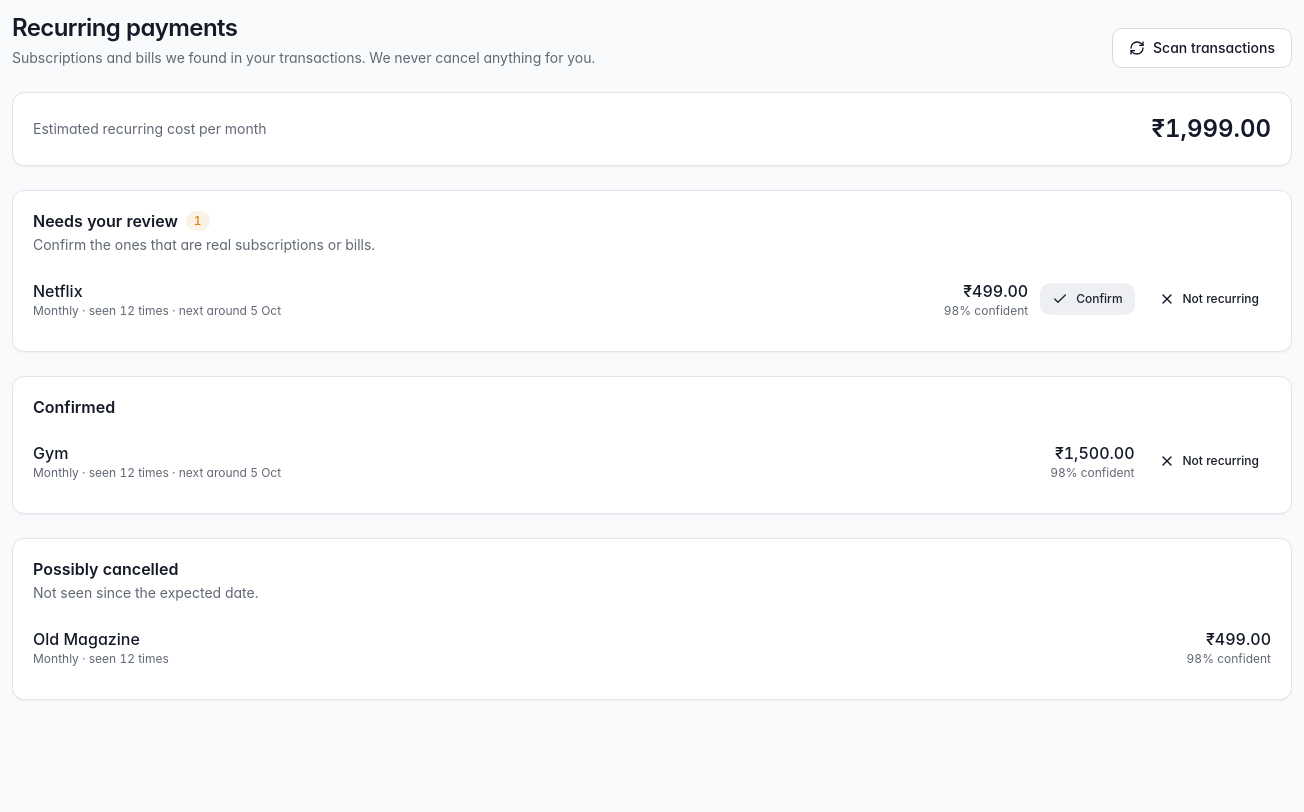
it: RecurringPage › runs a scan on demand
Click the button "Scan transactions": coordinates (1202, 48) [1112,28,1292,68]
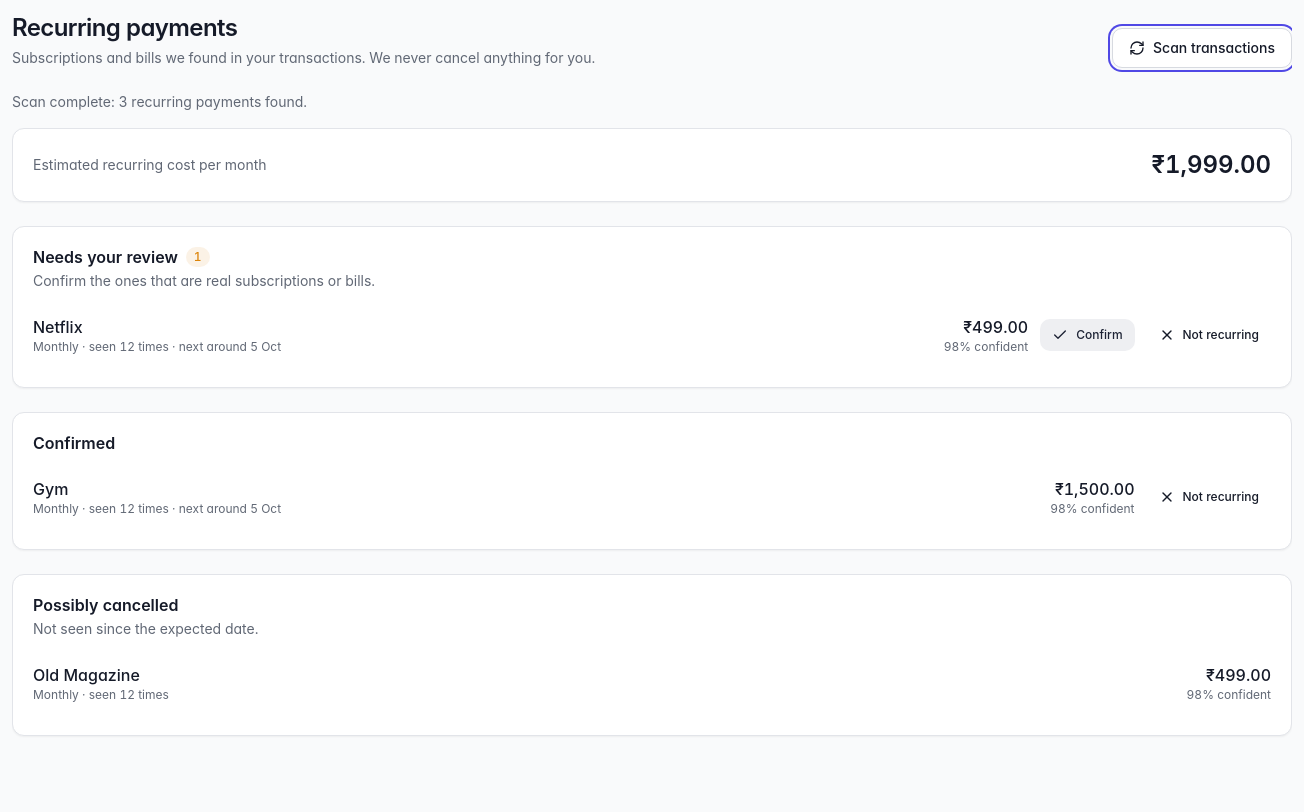
Check: the text "Scan complete: 3 recurring payments found." is shown, box [12,93,307,110]
